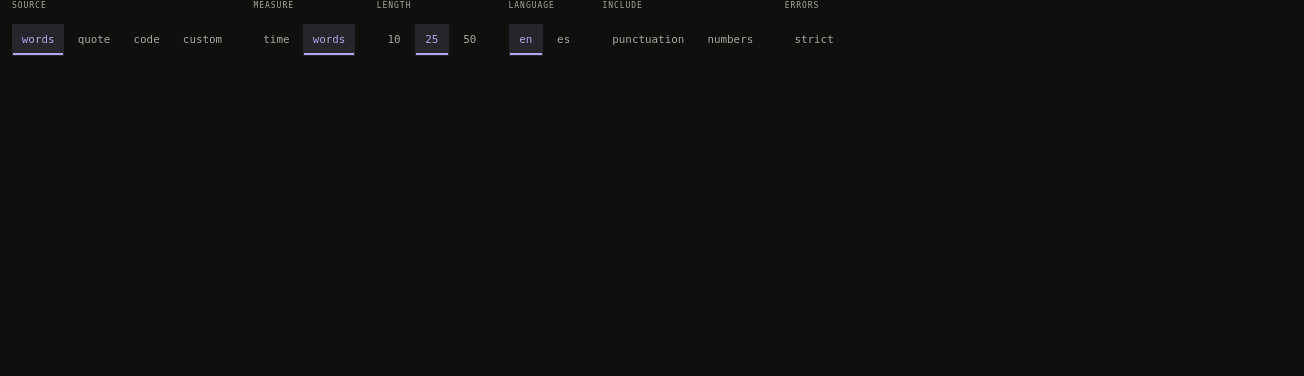
Test: TestControls › closes an unused custom editor when another configuration is chosen
Click the button "custom": (202, 40) [173,24,232,56]
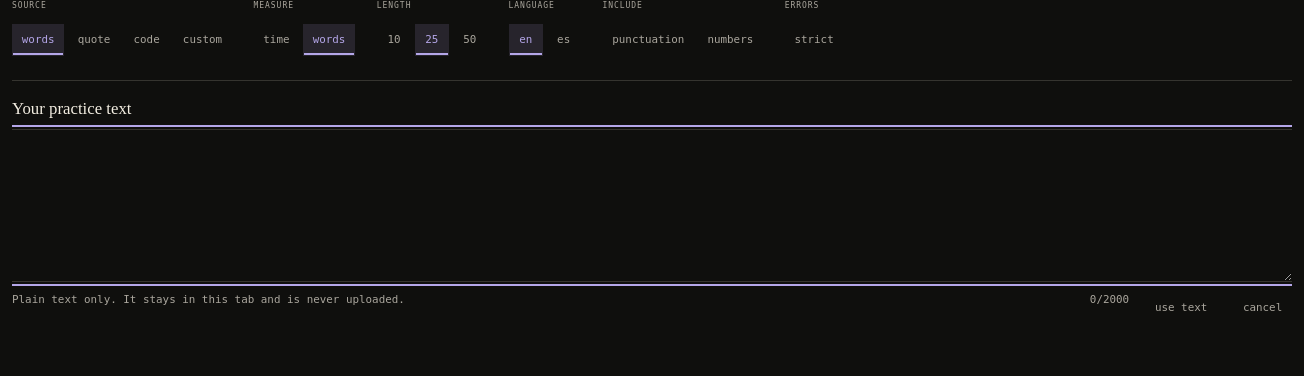
Click the button "use text": (1181, 308) [1145,292,1217,324]
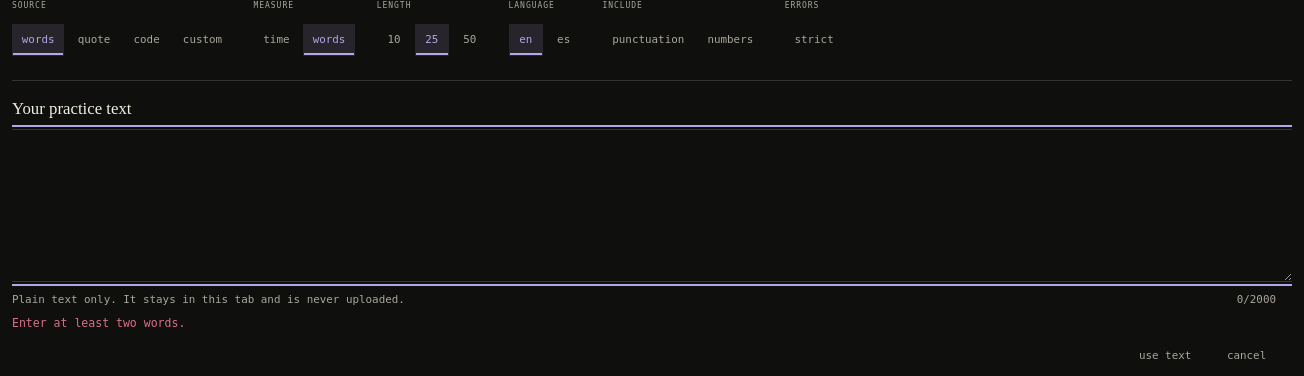
expect the message reads "Enter at least two words.": met, box [12,316,185,330]
Click the 1st button "words": (38, 40) [12,24,64,56]
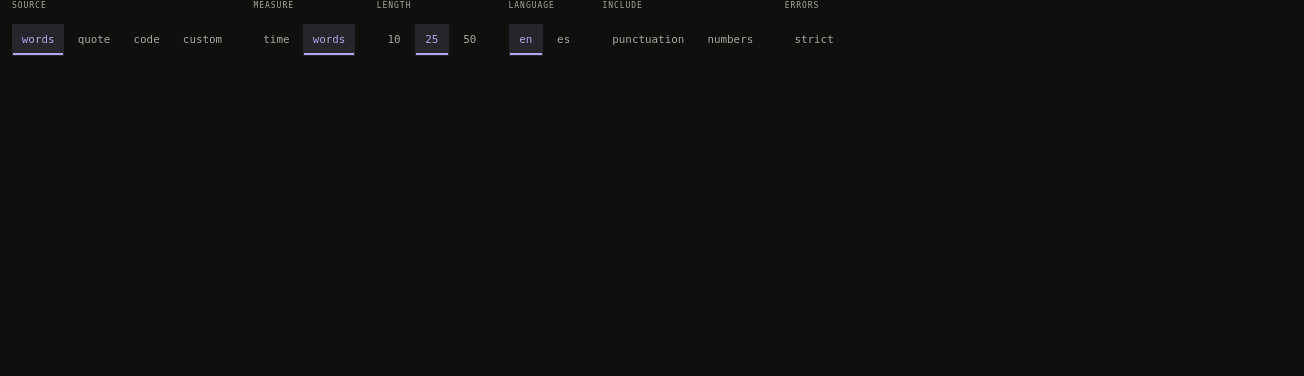
expect the label labelled "Your practice text" is gone: met
expect the message "Enter at least two words." is gone: met
Click the button "custom": (202, 40) [173,24,232,56]
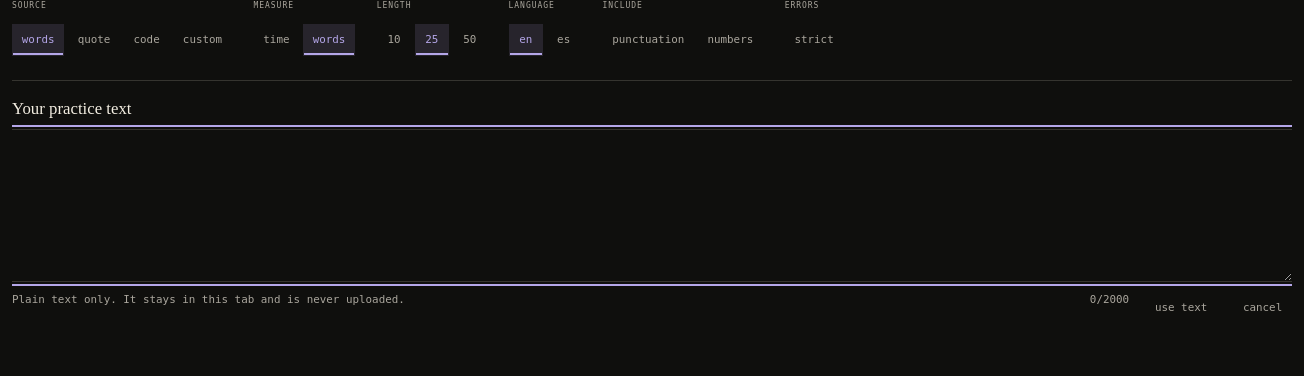
Click the button "strict": (814, 40) [785,24,844,56]
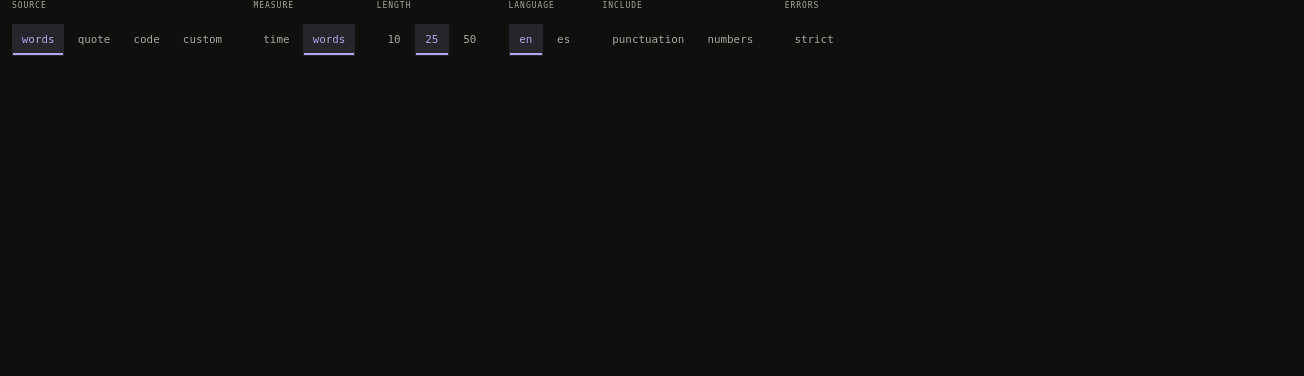
expect the label labelled "Your practice text" is gone: met
